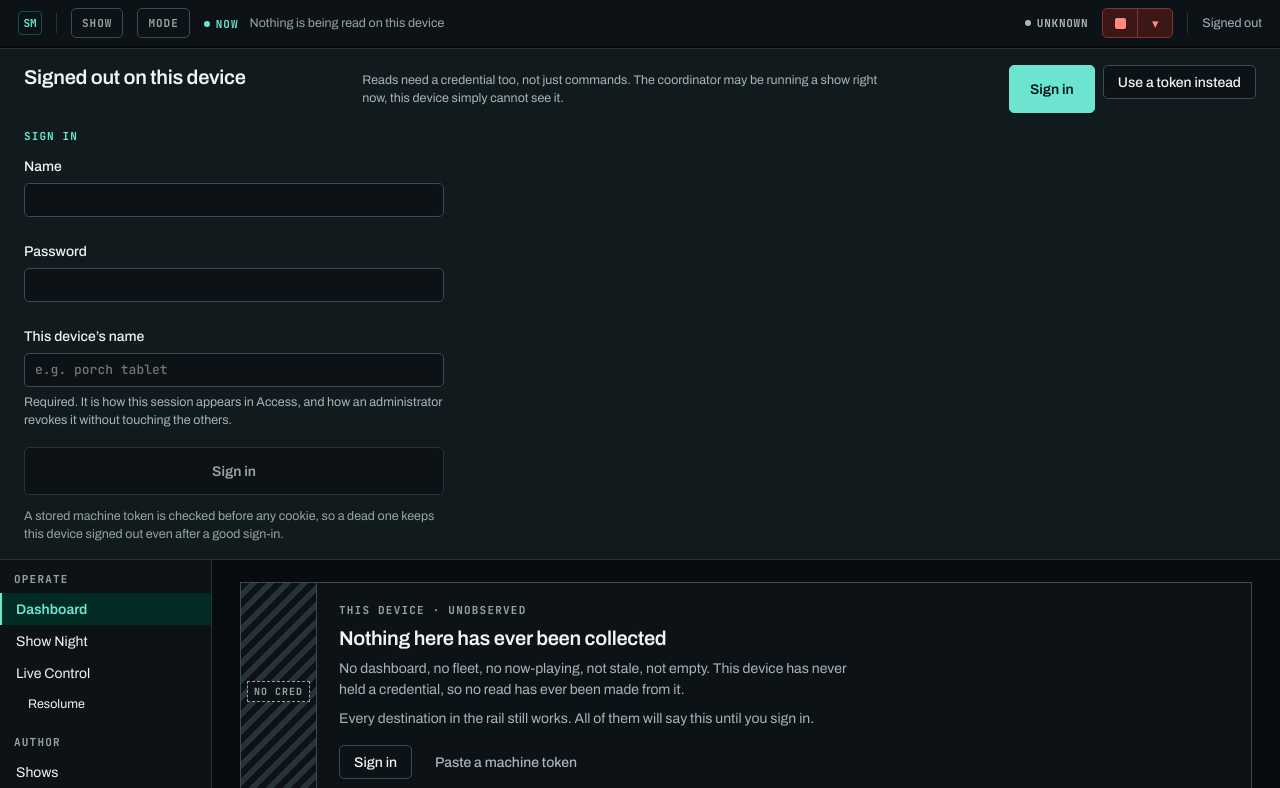
Test: app shell › renders the cross-site refusal as a headline plus its explanation
This screenshot has width=1280, height=788.
Type "operator-a" into the field labelled "Name" at (234, 200), box [24,183,444,217]
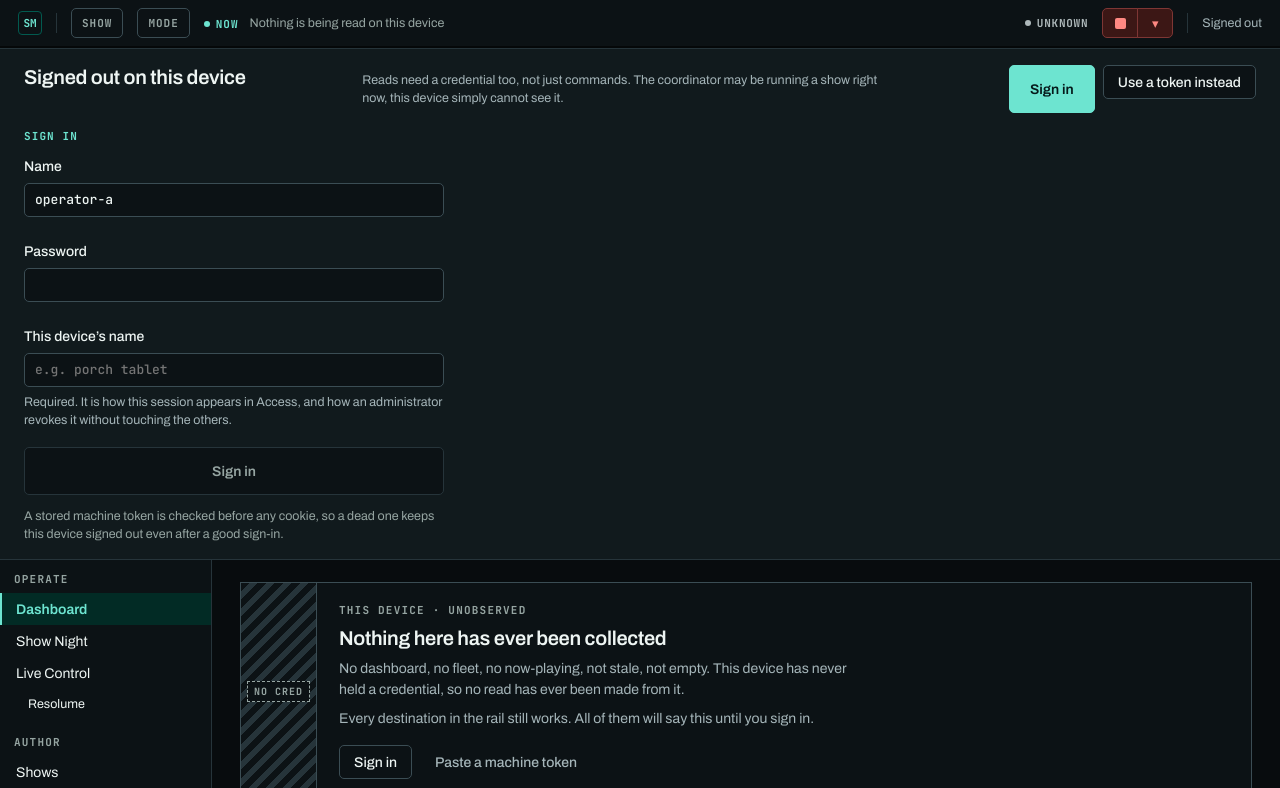
Type "hunter2" into the password field labelled "Password" at (234, 285), box [24,268,444,302]
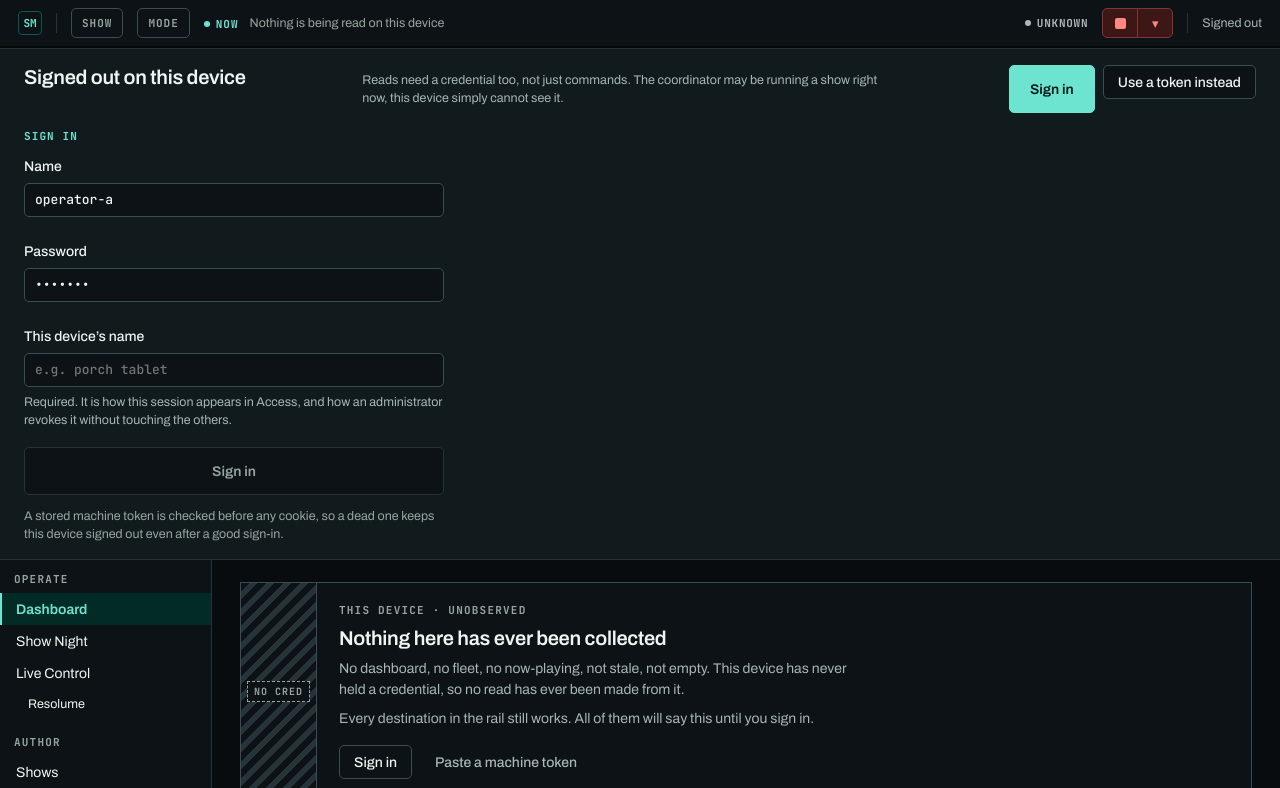
Type "porch tablet" into the field labelled "This device’s name" at (234, 370), box [24,353,444,387]
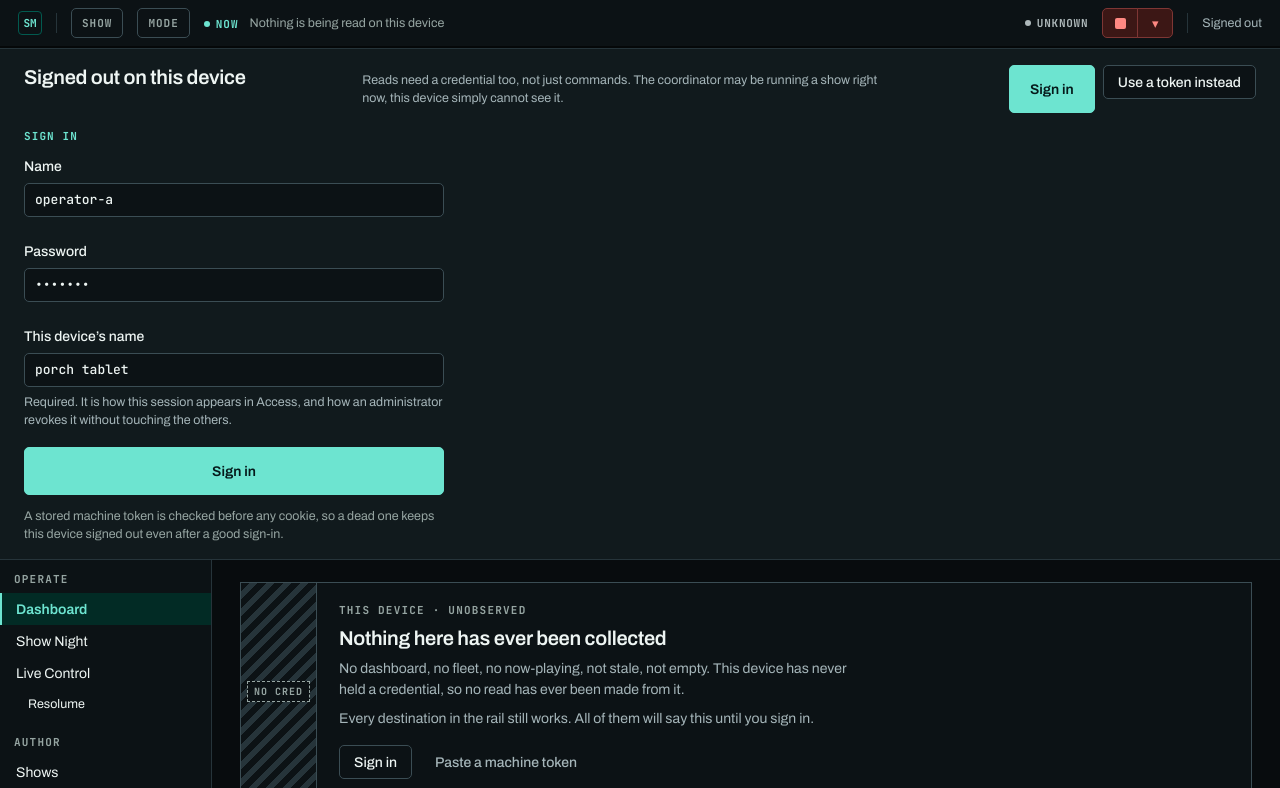
Click the button "Sign in" below "This device’s name" at (234, 471), box [24,447,444,495]
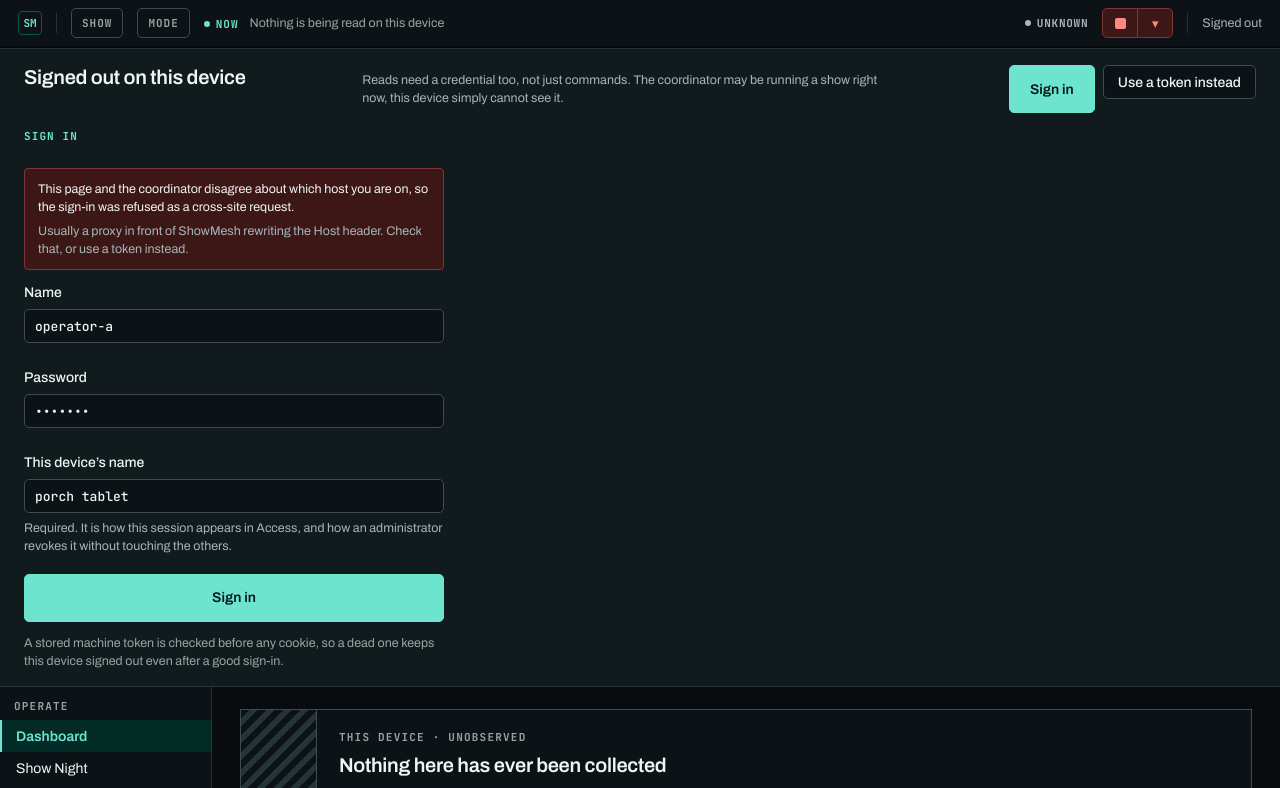
Now the message shows "This page and the coordinator disagree about which host you are on, so the sign-in was refused as a cross-site request.", box [38,182,428,214]
Now the message shows "Usually a proxy in front of ShowMesh rewriting the Host header.", box [38,224,422,256]
